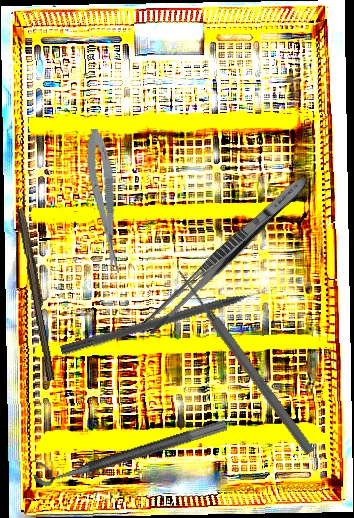Dressing Forceps: (138, 168, 315, 340)
Fixation Ring: (29, 403, 228, 490)
Micro Scissor: (82, 127, 126, 276)
Pusher: (173, 266, 317, 457), (59, 283, 279, 358)
Scalpel Handle: (14, 207, 60, 382)
